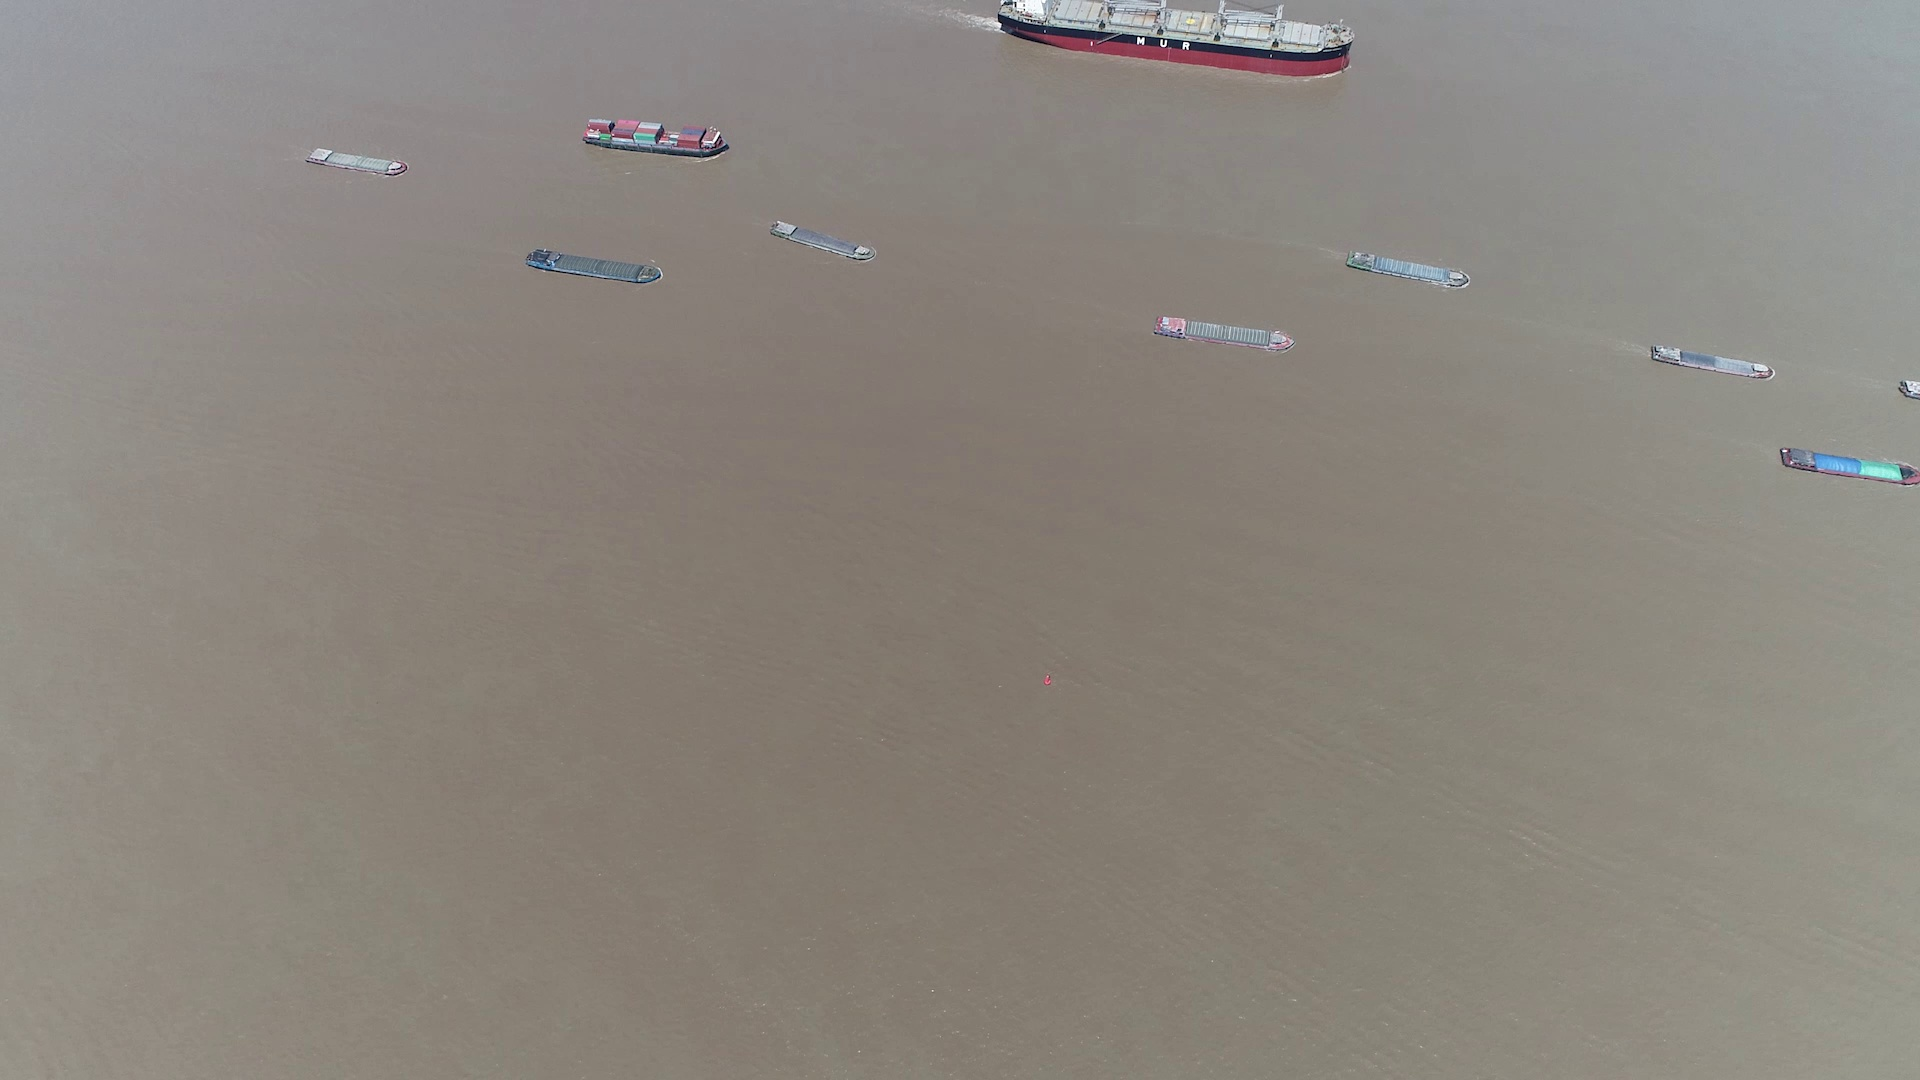ship: (998, 0, 1356, 74), (1779, 444, 1917, 487), (583, 119, 729, 157), (1345, 251, 1472, 291), (526, 248, 661, 286), (1155, 315, 1292, 349), (1648, 343, 1775, 378), (771, 220, 877, 262), (306, 145, 407, 175), (1898, 377, 1917, 400)
